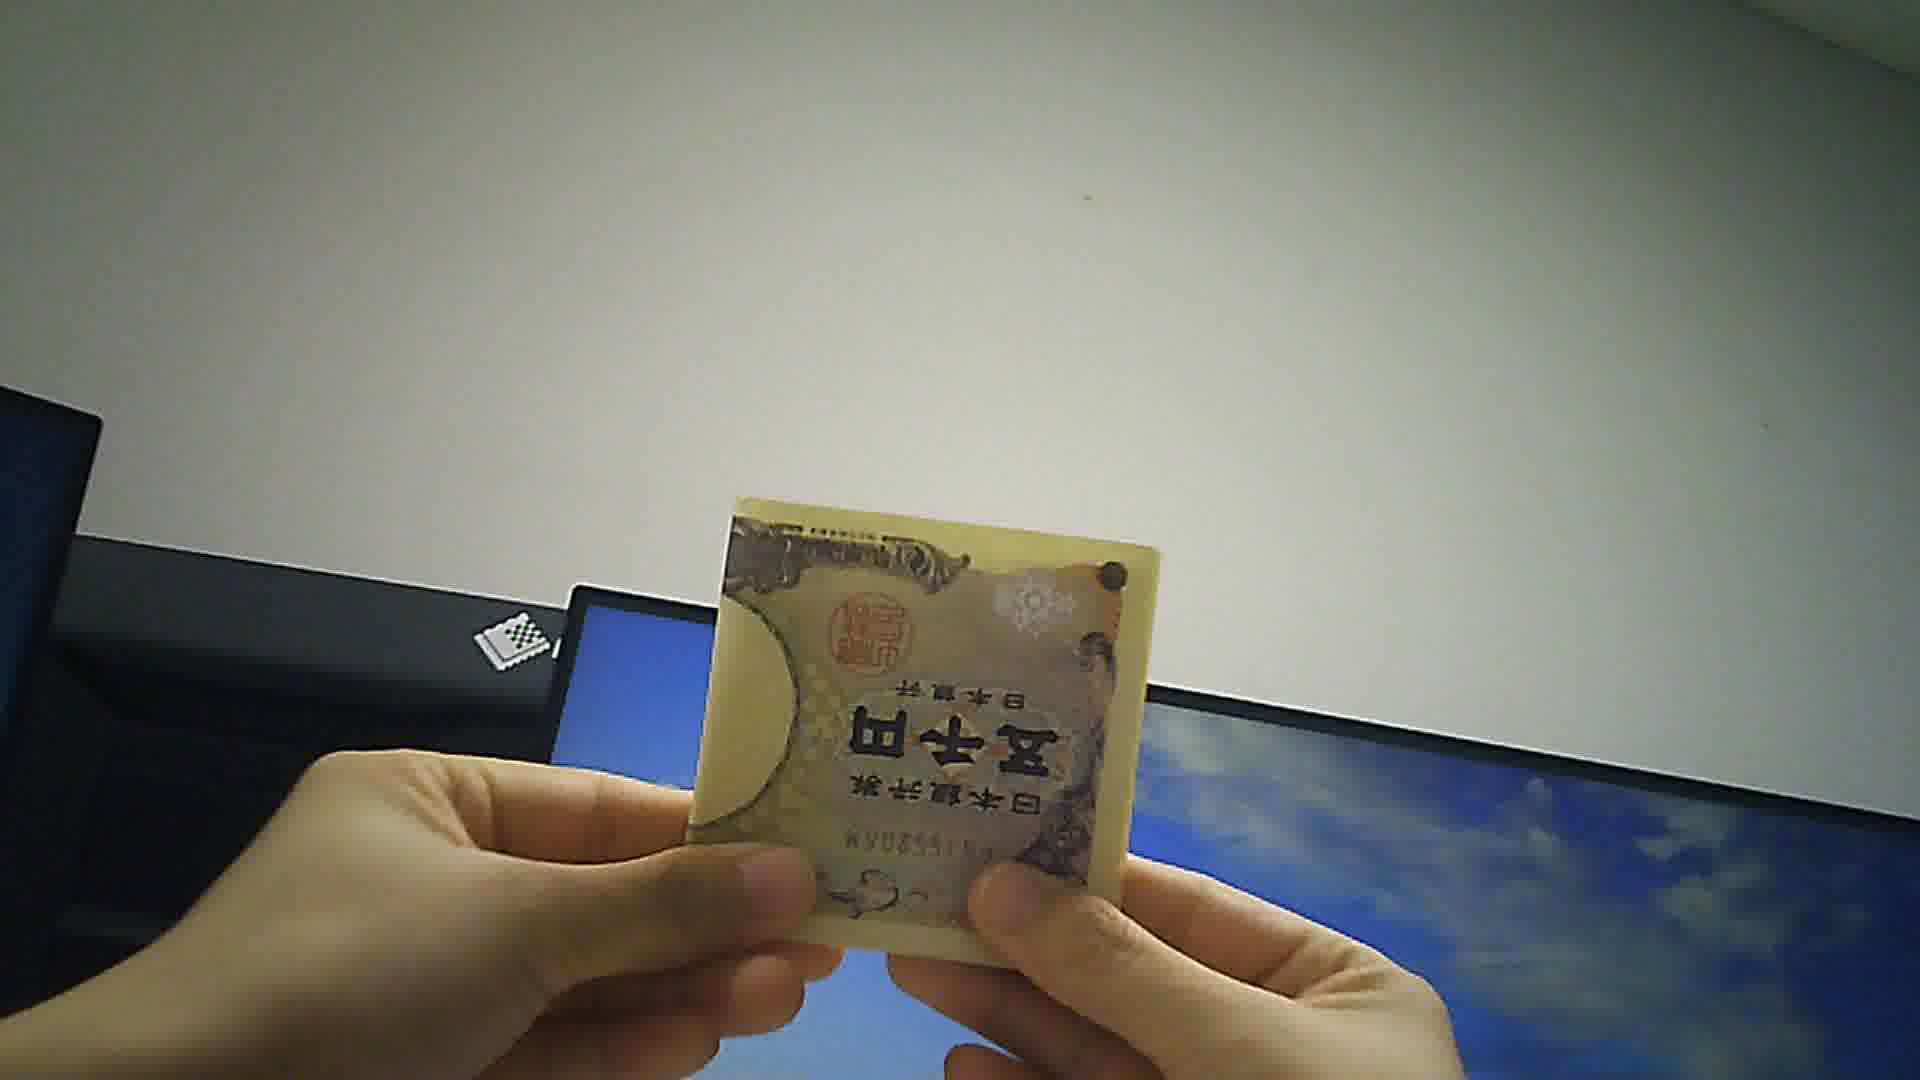5,000 Yen: (666, 488, 1174, 957)
